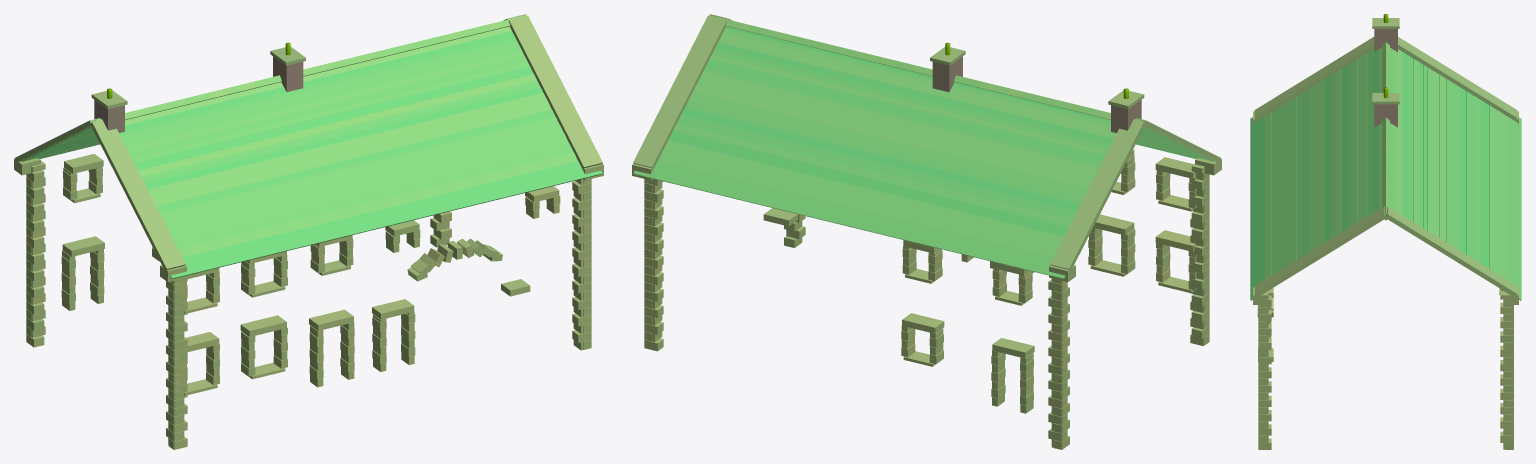
The model's file is SM_Bld_206_Stone.glb.
The picture shows the model from 3 angles, left to right: view 1: azimuth 30°, elevation 25°; view 2: azimuth 150°, elevation 25°; view 3: azimuth 270°, elevation 25°; orthographic projection. The views are drawn at different scales.
Visible parts, largest first — view 1: SM_Bld_206_Stone; view 2: SM_Bld_206_Stone; view 3: SM_Bld_206_Stone.
Boxes of the visible parts, x1,y1,x2,y2 form: SM_Bld_206_Stone: (14,14,603,449); SM_Bld_206_Stone: (632,14,1221,449); SM_Bld_206_Stone: (1250,14,1521,449).
Size of the model in its own units: 16.55 by 11.1 by 10.3.
